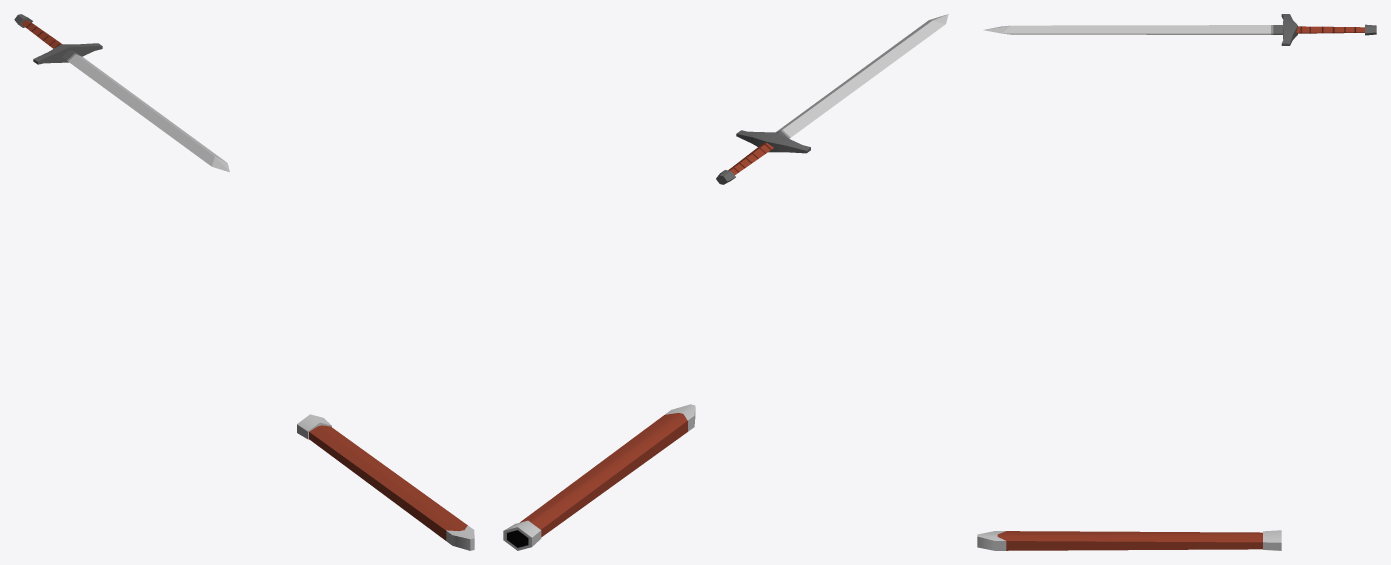
The model's file is SwordBasic_B.glb.
3 renders of one model, left to right at view 1: azimuth 30°, elevation 25°; view 2: azimuth 150°, elevation 25°; view 3: azimuth 270°, elevation 25°, orthographic. The views are drawn at different scales.
Parts seen in each view (by area): view 1: SwordScabbardBasic_B, SwordBasic_B.001; view 2: SwordScabbardBasic_B, SwordBasic_B.001; view 3: SwordScabbardBasic_B, SwordBasic_B.001.
Boxes of the visible parts, bbox=[...] form: SwordScabbardBasic_B: bbox=[297, 414, 474, 550]; SwordBasic_B.001: bbox=[14, 14, 229, 172]; SwordScabbardBasic_B: bbox=[503, 404, 695, 550]; SwordBasic_B.001: bbox=[716, 14, 948, 184]; SwordScabbardBasic_B: bbox=[977, 530, 1281, 550]; SwordBasic_B.001: bbox=[983, 14, 1376, 45].
Size of the model in its own units: 1.1 by 1.64 by 1.42.
1 material, 1 textured.
